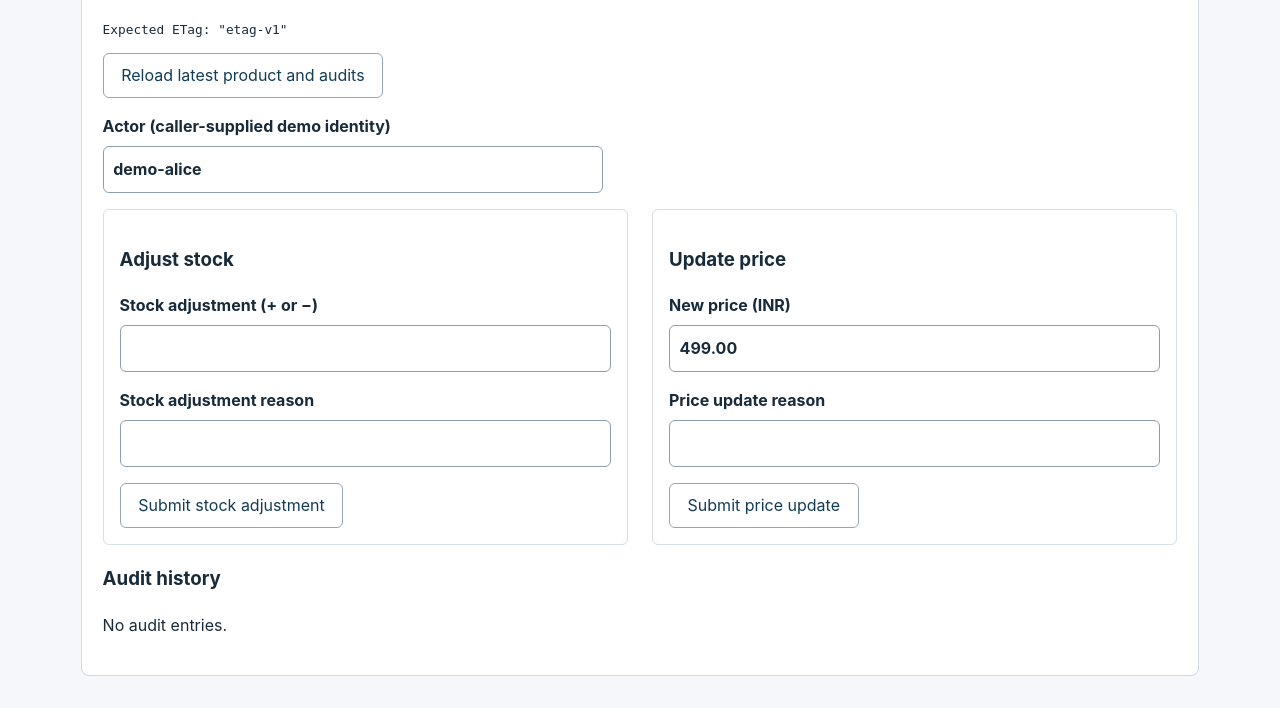
it: legacy admin response with null classification retains merchandise metadata
(page scrolled)
Expected: the button "Submit stock adjustment" is enabled, [120,483,343,528]
Replace the text in the field labelled "New price (INR)" with "549.25" at (915, 349), box [669,325,1160,372]
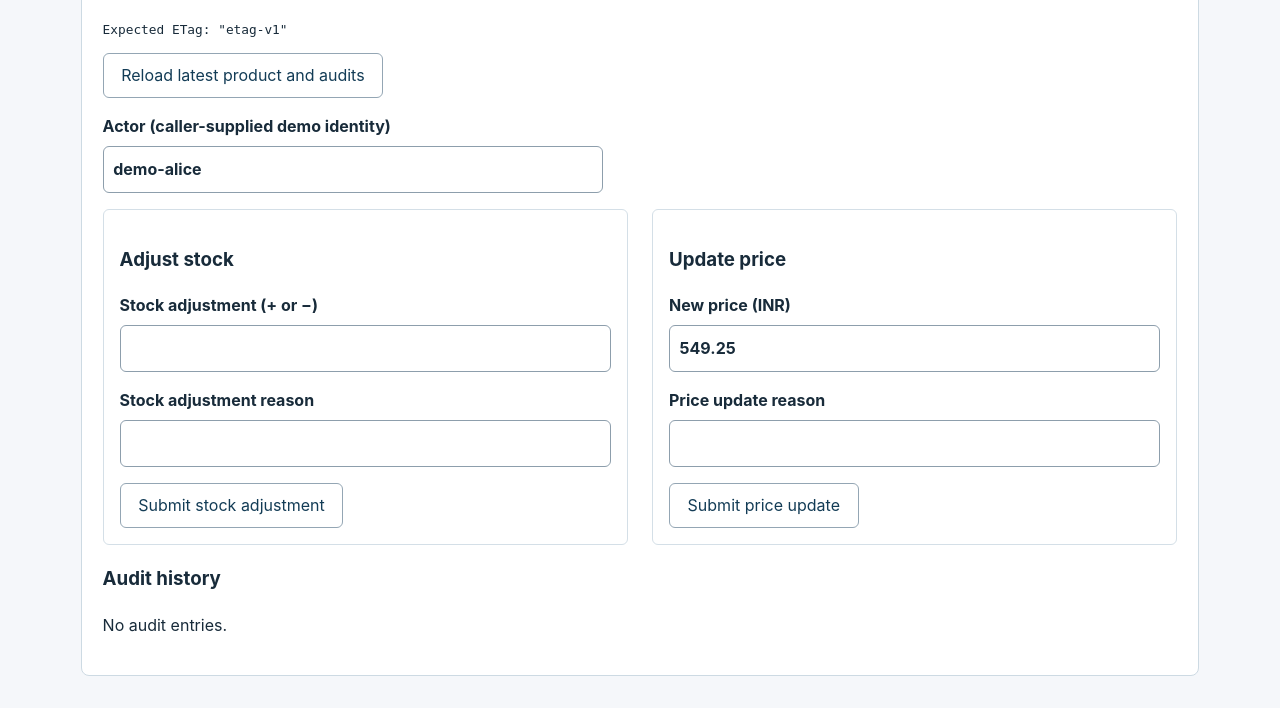
Type "Season price change" into the field labelled "Price update reason" at (915, 444), box [669,420,1160,467]
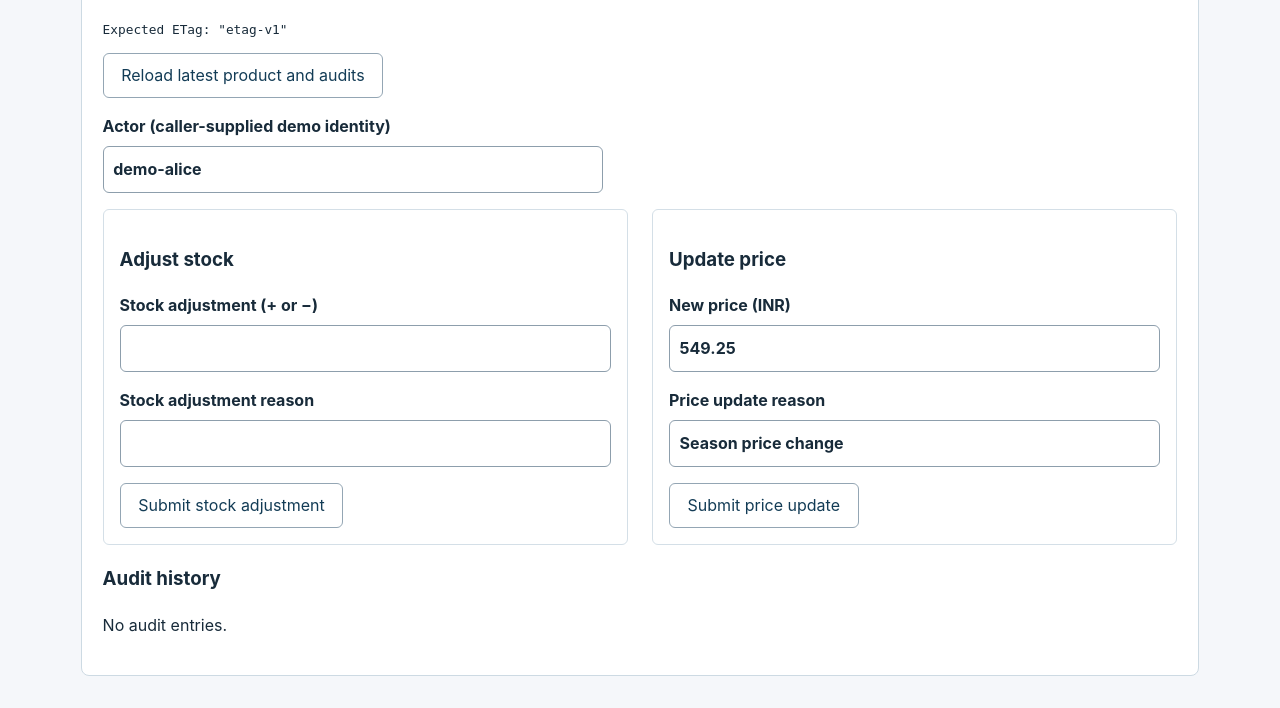
Click the button "Submit price update" at (764, 506), box [669,483,859,528]
(page scrolled)
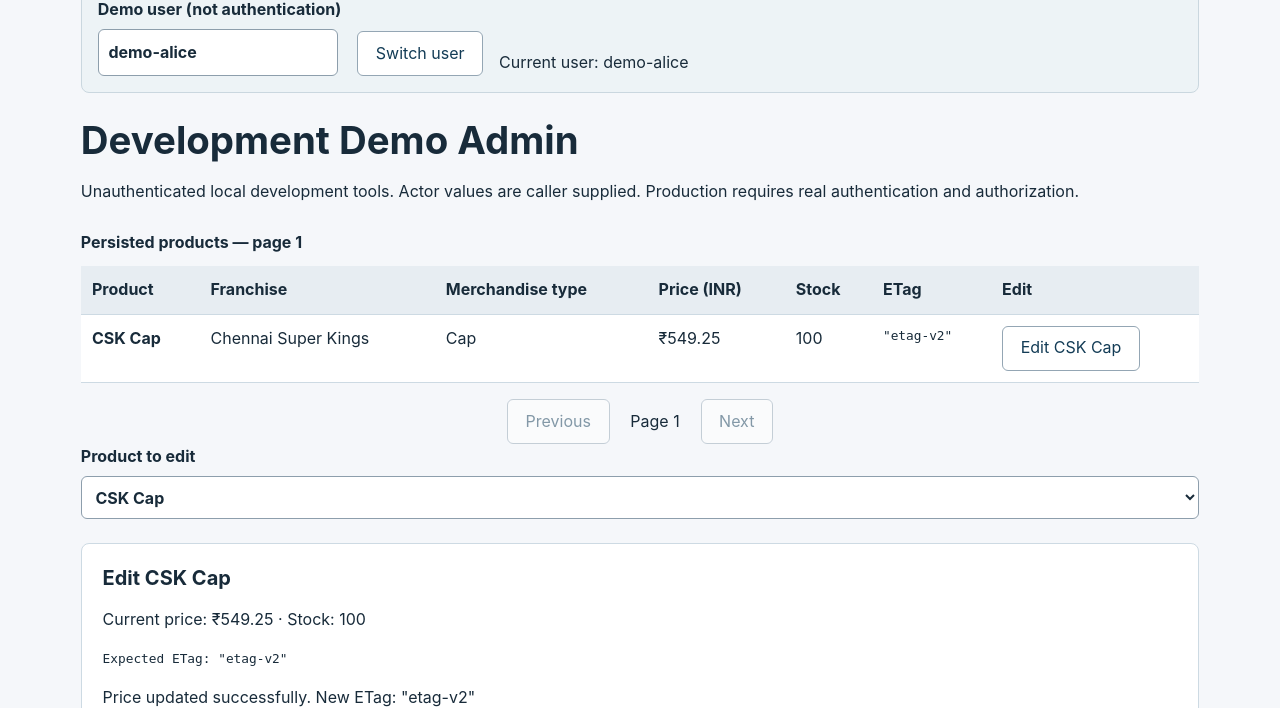
Expected: the text "Cap" is shown, [435,314,647,383]
Expected: the text "Price updated successfully. New ETag: \"etag-v2\"" is shown, [103,687,475,707]
